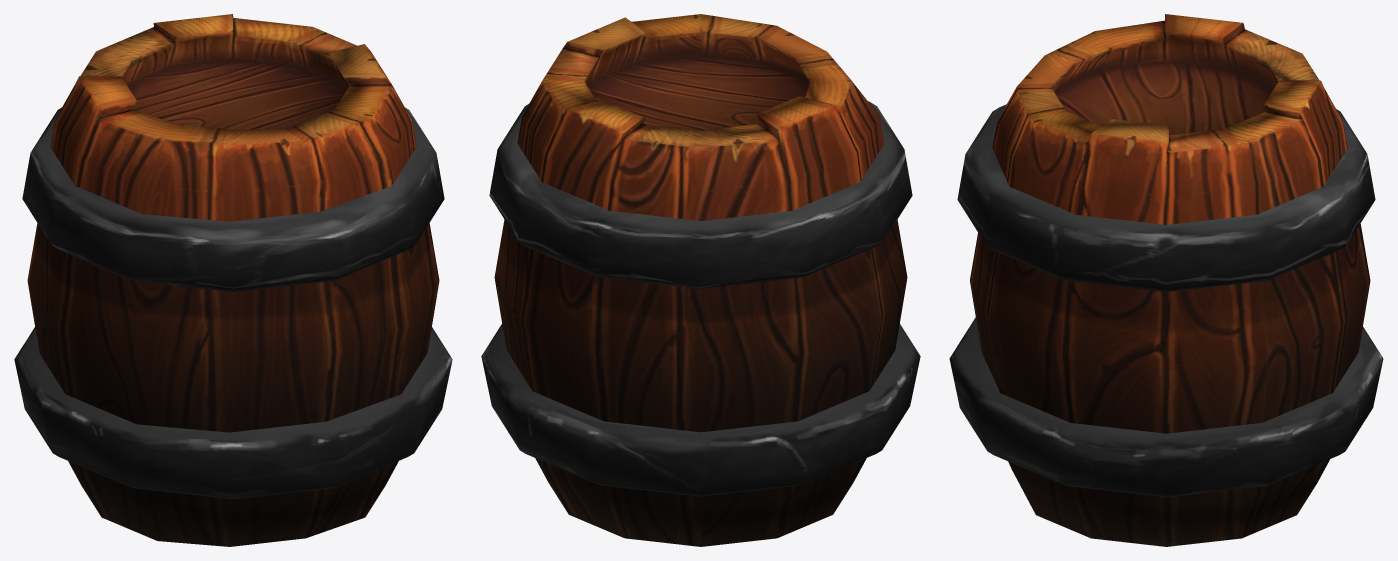
Rendered from export3dcoat.obj.
3 renders of one model, left to right at view 1: azimuth 30°, elevation 25°; view 2: azimuth 150°, elevation 25°; view 3: azimuth 270°, elevation 25°, orthographic.
Visible parts, largest first — view 1: BOCHKA, RING UP, RING DOWN; view 2: BOCHKA, RING UP, RING DOWN; view 3: BOCHKA, RING UP, RING DOWN.
Boxes of the visible parts, x1,y1,x2,y2 form: BOCHKA: [27, 14, 439, 546]; RING UP: [22, 107, 444, 292]; RING DOWN: [14, 327, 452, 499]; BOCHKA: [494, 14, 907, 546]; RING UP: [489, 101, 912, 288]; RING DOWN: [481, 323, 920, 496]; BOCHKA: [970, 14, 1370, 546]; RING UP: [957, 104, 1375, 291]; RING DOWN: [949, 317, 1383, 497].
Bounding box in the file's own units: 2.37 × 2.44 × 2.37.
